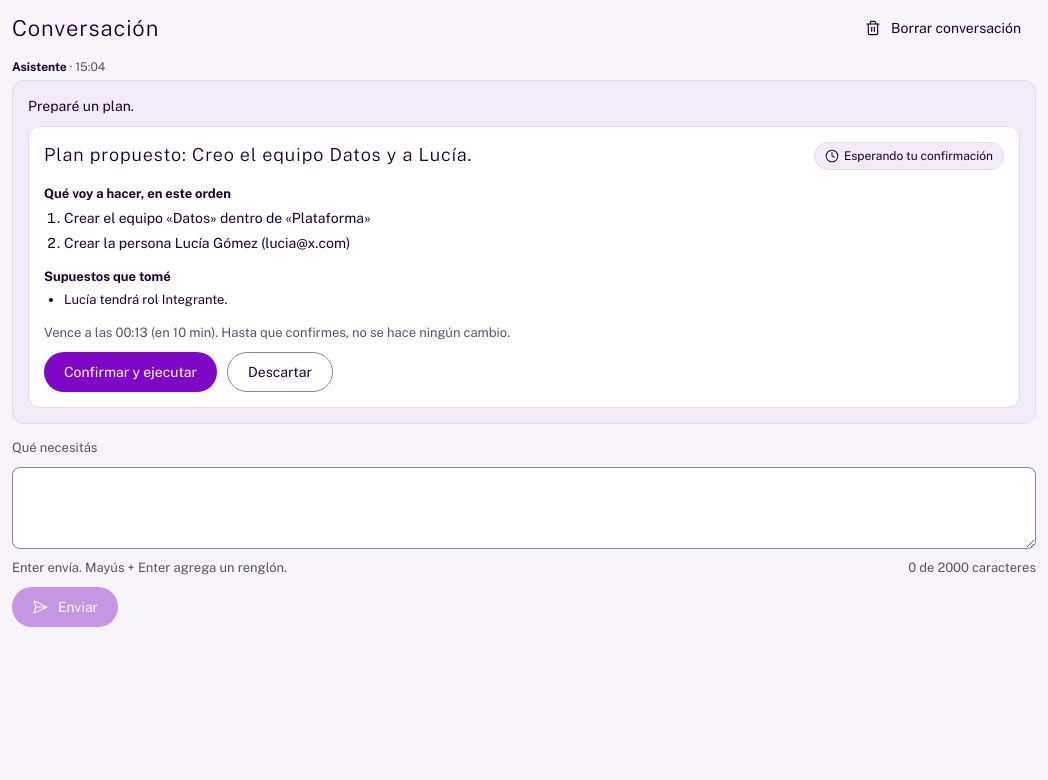
Test: ChatPanel › plan vencido al confirmar (410): el plan pasa a "Venció" y no queda botón
The image size is (1048, 780).
Click the button "Confirmar y ejecutar" at (130, 372), box [44, 352, 217, 392]
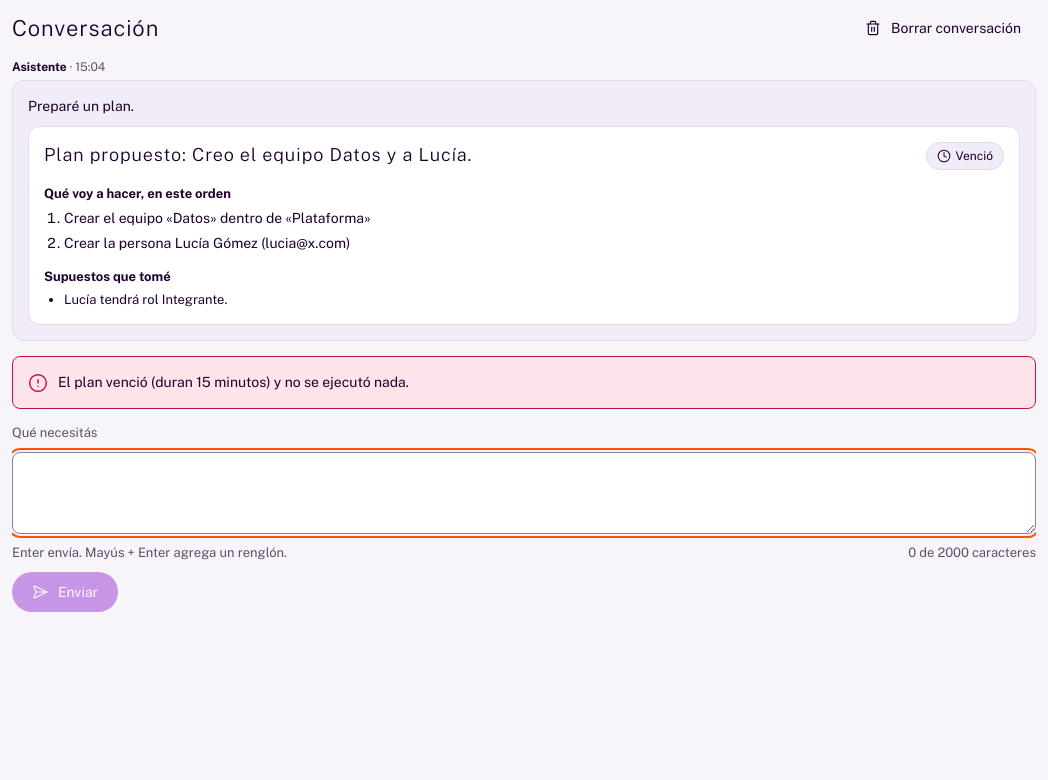
Check: the message shows "El plan venció", box [58, 374, 409, 390]
Check: the text "Venció" is shown, box [926, 142, 1004, 170]
Check: the button "Confirmar y ejecutar" is gone
